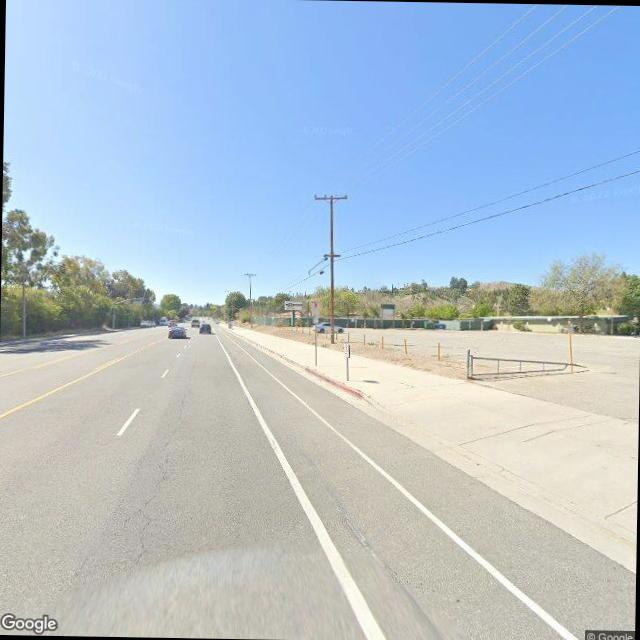crack: (128, 446, 172, 566)
